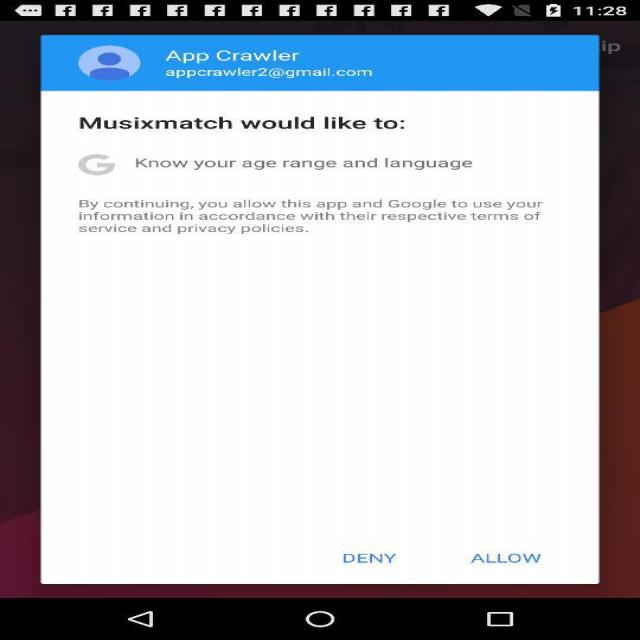button: (331, 541, 559, 577)
icon: (68, 44, 148, 88), (72, 148, 128, 179)
text: (65, 191, 563, 247), (154, 44, 440, 97), (134, 148, 487, 184), (63, 110, 425, 140), (340, 546, 551, 569)
